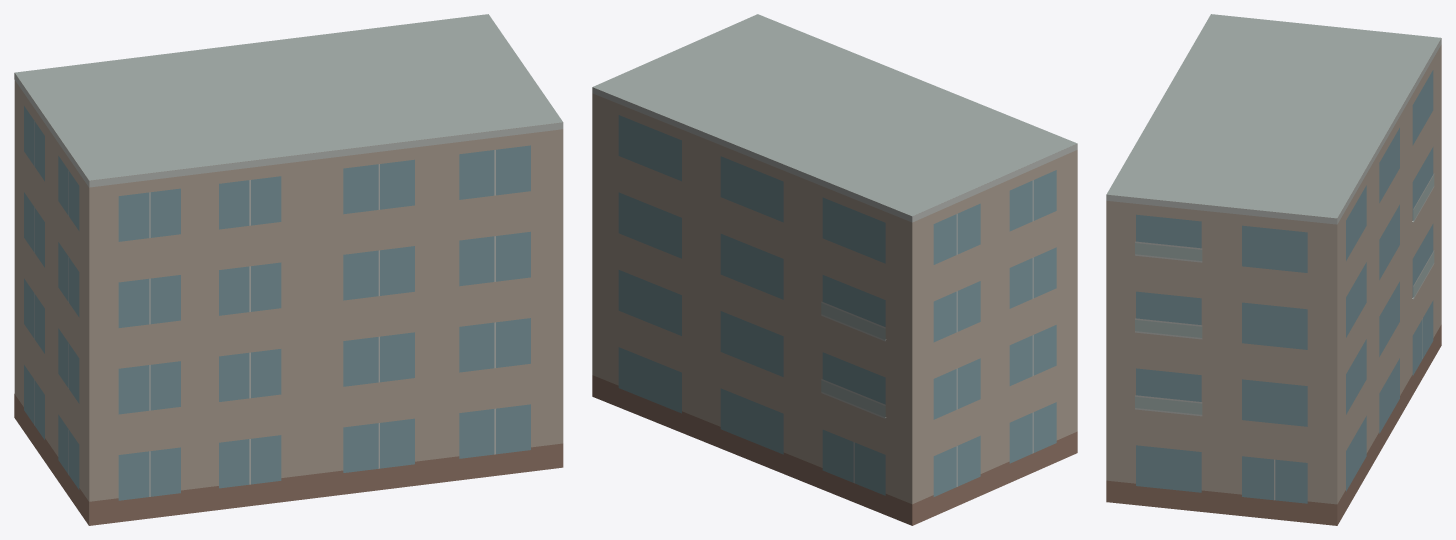
File: residential-7020baf6-6f76-47d3-a964-4c3f1f599a78.glb
The picture shows the model from 3 angles, left to right: view 1: azimuth 30°, elevation 25°; view 2: azimuth 150°, elevation 25°; view 3: azimuth 270°, elevation 25°; orthographic projection. The views are drawn at different scales.
Parts seen in each view (by area): view 1: residential-7020baf6-6f76-47d3-a964-4c3f1f599a78.tmp; view 2: residential-7020baf6-6f76-47d3-a964-4c3f1f599a78.tmp; view 3: residential-7020baf6-6f76-47d3-a964-4c3f1f599a78.tmp.
Boxes of the visible parts, bbox=[...] form: residential-7020baf6-6f76-47d3-a964-4c3f1f599a78.tmp: bbox=[14, 14, 563, 525]; residential-7020baf6-6f76-47d3-a964-4c3f1f599a78.tmp: bbox=[592, 14, 1077, 525]; residential-7020baf6-6f76-47d3-a964-4c3f1f599a78.tmp: bbox=[1106, 14, 1441, 525].
Size of the model in its own units: 17.41 by 12.2 by 12.07.
